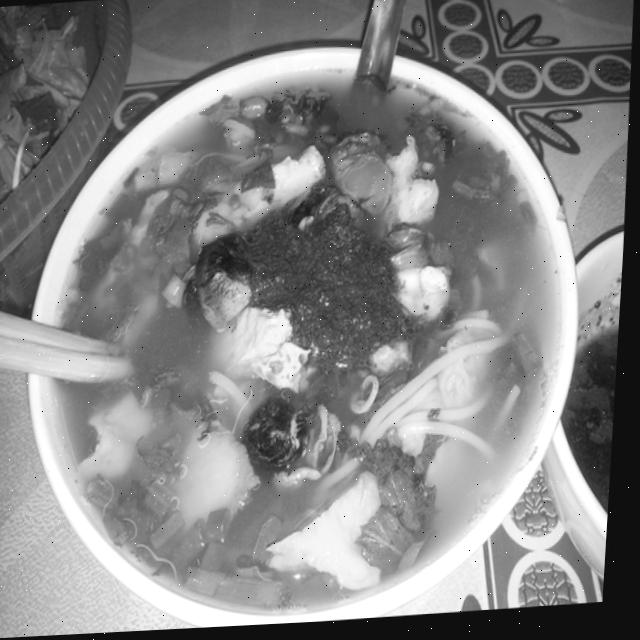面条主食: (12, 37, 595, 634)
